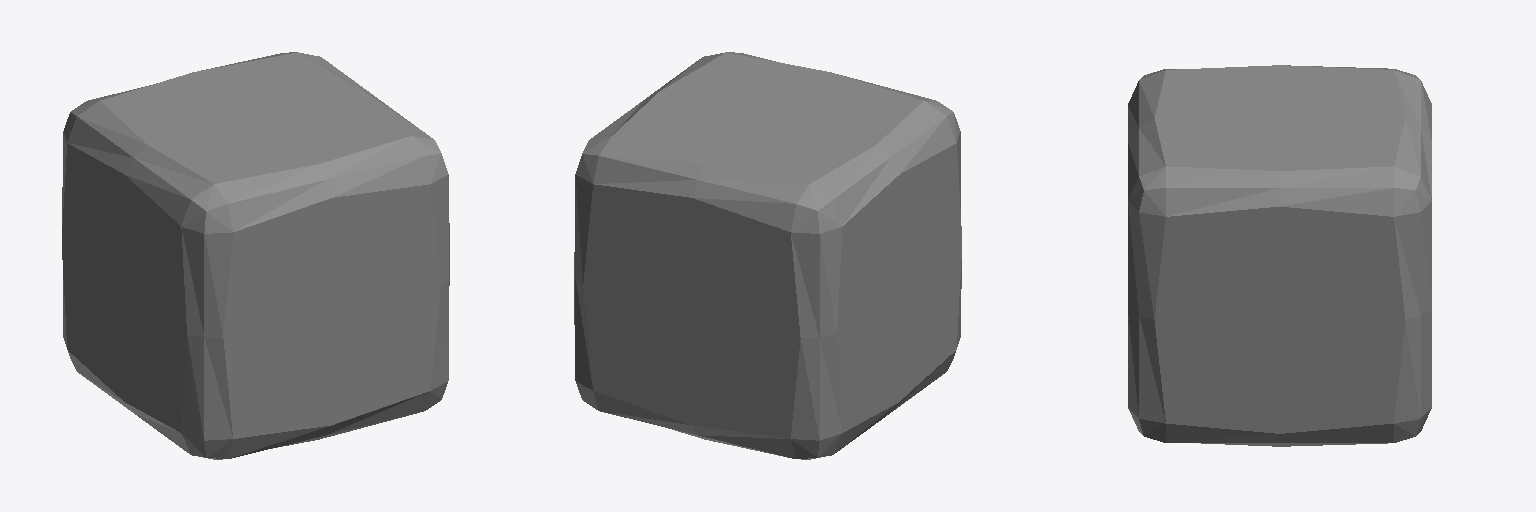
The model's file is dados_cubo2.obj.
3 renders of one model, left to right at view 1: azimuth 30°, elevation 25°; view 2: azimuth 150°, elevation 25°; view 3: azimuth 270°, elevation 25°, orthographic.
Visible parts, largest first — view 1: polySurface2; view 2: polySurface2; view 3: polySurface2.
Boxes of the visible parts, x1,y1,x2,y2 form: polySurface2: [62, 52, 449, 459]; polySurface2: [574, 52, 961, 459]; polySurface2: [1128, 65, 1431, 446].
Size of the model in its own units: 0.6916 by 0.6916 by 0.6916.